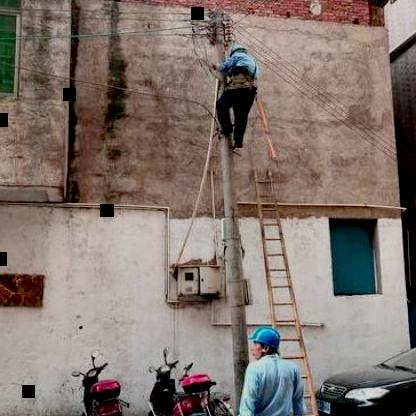helmet: (250, 324, 281, 360), (226, 40, 250, 62)
